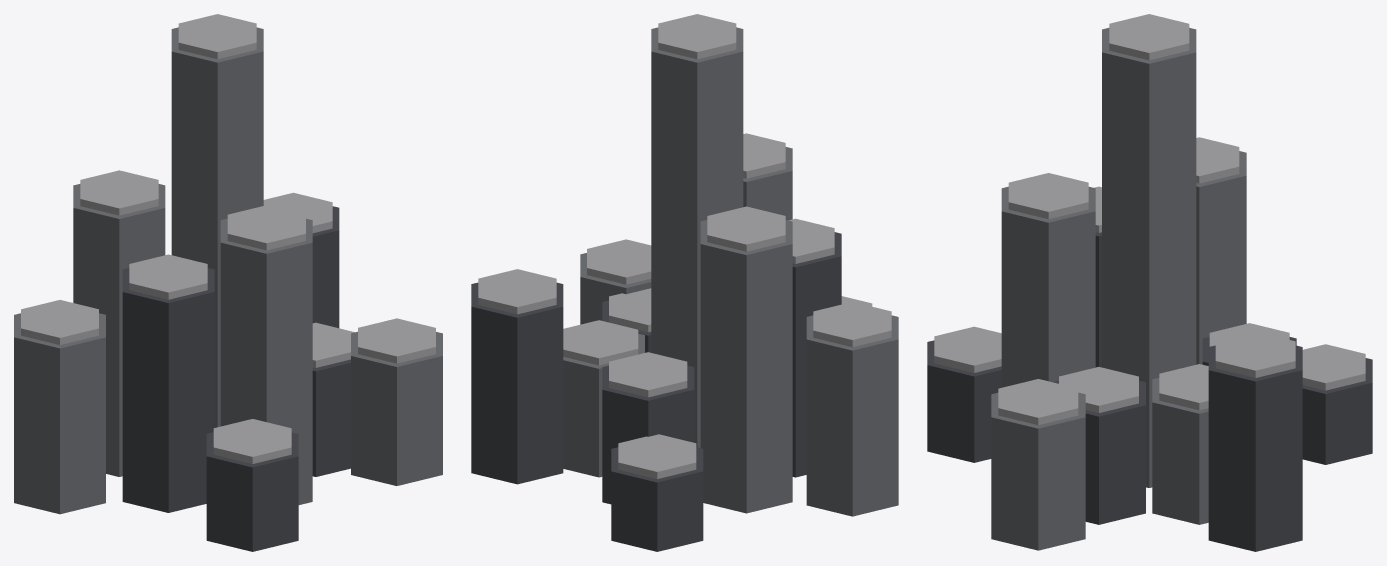
File: BasaltColumns.glb
3 renders of one model, left to right at view 1: azimuth 30°, elevation 25°; view 2: azimuth 150°, elevation 25°; view 3: azimuth 270°, elevation 25°, orthographic. The views are drawn at different scales.
Parts seen in each view (by area): view 1: BasaltColumns; view 2: BasaltColumns; view 3: BasaltColumns.
Boxes of the visible parts, left/top/right/bottom form: BasaltColumns: left=14, top=14, right=442, bottom=551; BasaltColumns: left=471, top=14, right=898, bottom=551; BasaltColumns: left=927, top=14, right=1372, bottom=551.
Bounding box in the file's own units: 8.18 × 8.76 × 8.2.
Materials: 1 (1 with a texture image).
